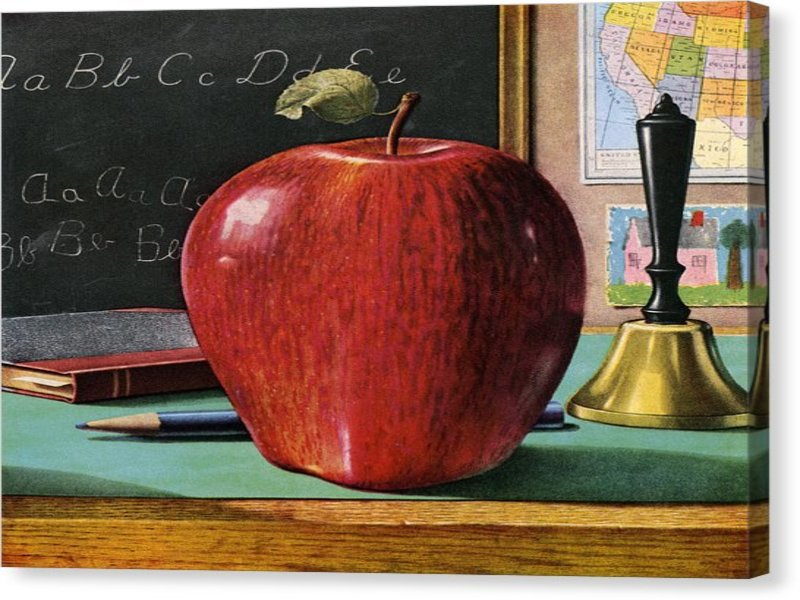apple: (176, 120, 594, 497)
